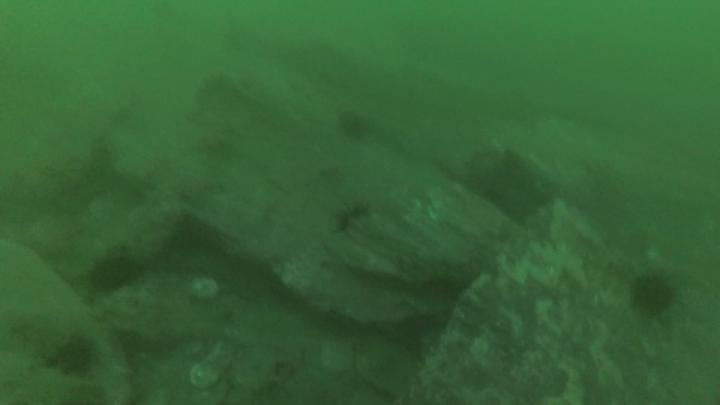echinus: (630, 273, 672, 313), (88, 260, 137, 290), (56, 342, 92, 374), (335, 112, 370, 144)
